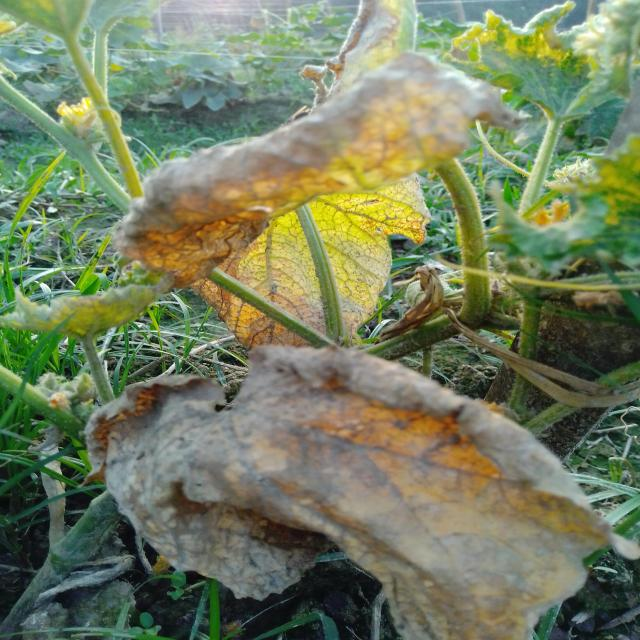cucumber_bacterial: (87, 348, 640, 639), (111, 17, 511, 330), (456, 5, 640, 147)
